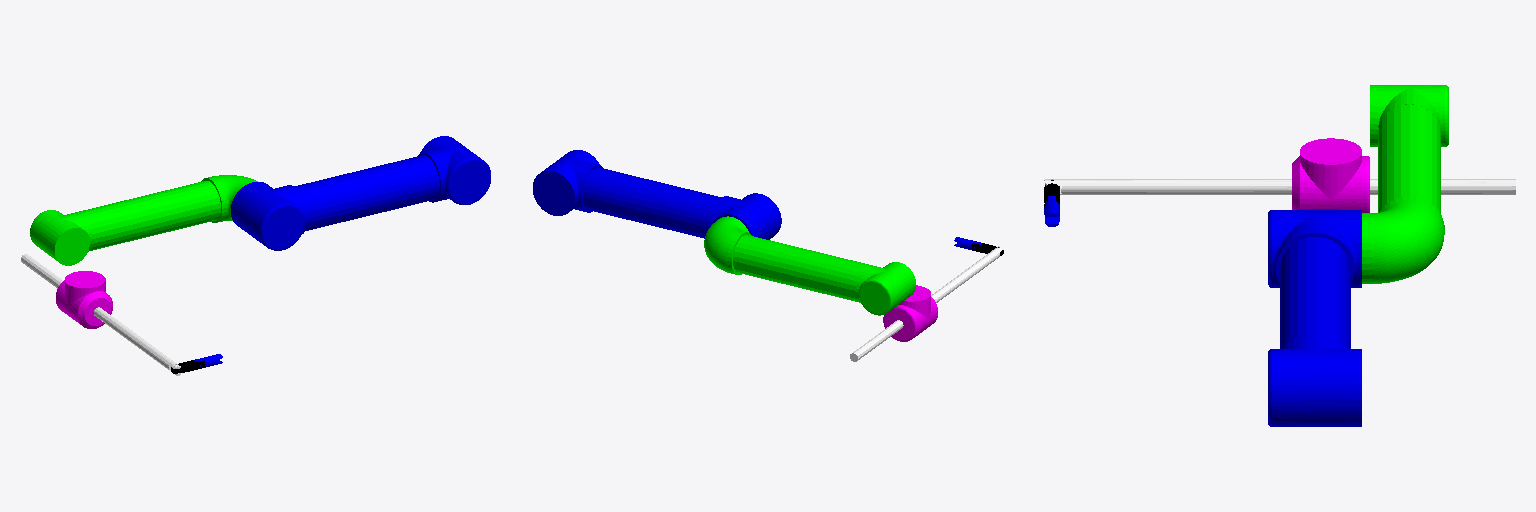
The robot description file, URDF, robot "dofnine6":
<?xml version="1.0" encoding="utf-8"?>
<!-- This URDF was automatically created by SolidWorks to URDF Exporter! Originally created by [author] ([email redacted]) 
     Commit Version: 1.5.1-0-g916b5db  Build Version: 1.5.7152.31018
     For more information, please see http://wiki.ros.org/sw_urdf_exporter -->
<robot
  name="dofnine6">
  <link
    name="base_link">
    <inertial>
      <origin
        xyz="-9.1669E-19 -0.0006188 0.01308"
        rpy="0 0 0" />
      <mass
        value="0.38246" />
      <inertia
        ixx="0.00043672"
        ixy="-5.14E-21"
        ixz="-6.9161E-21"
        iyy="0.00045103"
        iyz="-7.29E-07"
        izz="0.00083789" />
    </inertial>
    <visual>
      <origin
        xyz="0 0 0"
        rpy="0 0 0" />
      <geometry>
        <mesh
          filename="package://dofnine6/meshes/base_link.STL" />
      </geometry>
      <material
        name="">
        <color
          rgba="0 0 0 1" />
      </material>
    </visual>
    <collision>
      <origin
        xyz="0 0 0"
        rpy="0 0 0" />
      <geometry>
        <mesh
          filename="package://dofnine6/meshes/base_link.STL" />
      </geometry>
    </collision>
  </link>
  <link
    name="Link1">
    <inertial>
      <origin
        xyz="4.2686E-10 -0.0063042 0.08991"
        rpy="0 0 0" />
      <mass
        value="1.0794" />
      <inertia
        ixx="0.0020879"
        ixy="-3.8162E-10"
        ixz="-1.4826E-10"
        iyy="0.0019142"
        iyz="6.1066E-07"
        izz="0.0016041" />
    </inertial>
    <visual>
      <origin
        xyz="0 0 0"
        rpy="0 0 0" />
      <geometry>
        <mesh
          filename="package://dofnine6/meshes/Link1.STL" />
      </geometry>
      <material
        name="">
        <color
          rgba="0 0 0 1" />
      </material>
    </visual>
    <collision>
      <origin
        xyz="0 0 0"
        rpy="0 0 0" />
      <geometry>
        <mesh
          filename="package://dofnine6/meshes/Link1.STL" />
      </geometry>
    </collision>
  </link>
  <joint
    name="joint1"
    type="revolute">
    <origin
      xyz="0 0 0"
      rpy="0 0 0" />
    <parent
      link="base_link" />
    <child
      link="Link1" />
    <axis
      xyz="0 0 1" />
    <limit
      lower="-3.14"
      upper="3.14"
      effort="100"
      velocity="3" />
  </joint>
  <link
    name="Link2">
    <inertial>
      <origin
        xyz="-0.21001 -6.7298E-12 0.11992"
        rpy="0 0 0" />
      <mass
        value="2.5593" />
      <inertia
        ixx="0.0045543"
        ixy="9.5236E-10"
        ixz="5.851E-07"
        iyy="0.097115"
        iyz="7.8875E-13"
        izz="0.096147" />
    </inertial>
    <visual>
      <origin
        xyz="0 0 0"
        rpy="0 0 0" />
      <geometry>
        <mesh
          filename="package://dofnine6/meshes/Link2.STL" />
      </geometry>
      <material
        name="">
        <color
          rgba="0 0 1 1" />
      </material>
    </visual>
    <collision>
      <origin
        xyz="0 0 0"
        rpy="0 0 0" />
      <geometry>
        <mesh
          filename="package://dofnine6/meshes/Link2.STL" />
      </geometry>
    </collision>
  </link>
  <joint
    name="joint2"
    type="revolute">
    <origin
      xyz="0 0 0.09"
      rpy="1.5708 0 0" />
    <parent
      link="Link1" />
    <child
      link="Link2" />
    <axis
      xyz="0 0 1" />
    <limit
      lower="-3.14"
      upper="3.14"
      effort="100"
      velocity="3" />
  </joint>
  <link
    name="Link3">
    <inertial>
      <origin
        xyz="-0.2583 8.9889E-08 0.002554"
        rpy="0 0 0" />
      <mass
        value="1.1711" />
      <inertia
        ixx="0.0016101"
        ixy="-1.4711E-08"
        ixz="-0.00077549"
        iyy="0.030627"
        iyz="2.7892E-08"
        izz="0.030394" />
    </inertial>
    <visual>
      <origin
        xyz="0 0 0"
        rpy="0 0 0" />
      <geometry>
        <mesh
          filename="package://dofnine6/meshes/Link3.STL" />
      </geometry>
      <material
        name="">
        <color
          rgba="0 1 0 1" />
      </material>
    </visual>
    <collision>
      <origin
        xyz="0 0 0"
        rpy="0 0 0" />
      <geometry>
        <mesh
          filename="package://dofnine6/meshes/Link3.STL" />
      </geometry>
    </collision>
  </link>
  <joint
    name="joint3"
    type="revolute">
    <origin
      xyz="-0.42 0 0"
      rpy="0 0 0" />
    <parent
      link="Link2" />
    <child
      link="Link3" />
    <axis
      xyz="0 0 1" />
    <limit
      lower="-3.14"
      upper="3.14"
      effort="100"
      velocity="3" />
  </joint>
  <link
    name="Link4">
    <inertial>
      <origin
        xyz="1.2298E-09 -0.00011006 0.094386"
        rpy="0 0 0" />
      <mass
        value="0.58201" />
      <inertia
        ixx="0.0007618"
        ixy="-4.4791E-11"
        ixz="1.4963E-11"
        iyy="0.00056434"
        iyz="3.5959E-07"
        izz="0.00068944" />
    </inertial>
    <visual>
      <origin
        xyz="0 0 0"
        rpy="0 0 0" />
      <geometry>
        <mesh
          filename="package://dofnine6/meshes/Link4.STL" />
      </geometry>
      <material
        name="">
        <color
          rgba="0 1 1 1" />
      </material>
    </visual>
    <collision>
      <origin
        xyz="0 0 0"
        rpy="0 0 0" />
      <geometry>
        <mesh
          filename="package://dofnine6/meshes/Link4.STL" />
      </geometry>
    </collision>
  </link>
  <joint
    name="joint4"
    type="revolute">
    <origin
      xyz="-0.4 0 0"
      rpy="0 0 0" />
    <parent
      link="Link3" />
    <child
      link="Link4" />
    <axis
      xyz="0 0 -1" />
    <limit
      lower="-3.14"
      upper="3.14"
      effort="100"
      velocity="3" />
  </joint>
  <link
    name="Link5">
    <inertial>
      <origin
        xyz="-1.1025E-09 -0.00087677 0.093939"
        rpy="0 0 0" />
      <mass
        value="0.53907" />
      <inertia
        ixx="0.00070005"
        ixy="-3.7536E-11"
        ixz="-2.8082E-11"
        iyy="0.00054563"
        iyz="2.8643E-06"
        izz="0.00062916" />
    </inertial>
    <visual>
      <origin
        xyz="0 0 0"
        rpy="0 0 0" />
      <geometry>
        <mesh
          filename="package://dofnine6/meshes/Link5.STL" />
      </geometry>
      <material
        name="">
        <color
          rgba="1 0 1 1" />
      </material>
    </visual>
    <collision>
      <origin
        xyz="0 0 0"
        rpy="0 0 0" />
      <geometry>
        <mesh
          filename="package://dofnine6/meshes/Link5.STL" />
      </geometry>
    </collision>
  </link>
  <joint
    name="joint5"
    type="revolute">
    <origin
      xyz="0 0 0.1"
      rpy="1.5708 0 0" />
    <parent
      link="Link4" />
    <child
      link="Link5" />
    <axis
      xyz="0 0 1" />
    <limit
      lower="-3.14"
      upper="3.14"
      effort="100"
      velocity="3" />
  </joint>
  <link
    name="Link6">
    <inertial>
      <origin
        xyz="-2.58E-09 -2.58E-09 0.071586"
        rpy="0 0 0" />
      <mass
        value="0.025232" />
      <inertia
        ixx="6.4705E-06"
        ixy="1.338E-19"
        ixz="-5.7487E-13"
        iyy="6.4705E-06"
        iyz="-5.7487E-13"
        izz="5.076E-06" />
    </inertial>
    <visual>
      <origin
        xyz="0 0 0"
        rpy="0 0 0" />
      <geometry>
        <mesh
          filename="package://dofnine6/meshes/Link6.STL" />
      </geometry>
      <material
        name="">
        <color
          rgba="1 1 0 1" />
      </material>
    </visual>
    <collision>
      <origin
        xyz="0 0 0"
        rpy="0 0 0" />
      <geometry>
        <mesh
          filename="package://dofnine6/meshes/Link6.STL" />
      </geometry>
    </collision>
  </link>
  <joint
    name="joint6"
    type="revolute">
    <origin
      xyz="0 0 0.1"
      rpy="-1.5708 0 0" />
    <parent
      link="Link5" />
    <child
      link="Link6" />
    <axis
      xyz="0 0 1" />
    <limit
      lower="-3.14"
      upper="3.14"
      effort="100"
      velocity="3" />
  </joint>
  <link
    name="Link7">
    <inertial>
      <origin
        xyz="3.1885E-09 -2.9817E-08 -0.29766"
        rpy="0 0 0" />
      <mass
        value="0.18362" />
      <inertia
        ixx="0.0052429"
        ixy="-2.891E-13"
        ixz="-1.4282E-10"
        iyy="0.0052429"
        iyz="1.3378E-09"
        izz="9.233E-06" />
    </inertial>
    <visual>
      <origin
        xyz="0 0 0"
        rpy="0 0 0" />
      <geometry>
        <mesh
          filename="package://dofnine6/meshes/Link7.STL" />
      </geometry>
      <material
        name="">
        <color
          rgba="1 1 1 1" />
      </material>
    </visual>
    <collision>
      <origin
        xyz="0 0 0"
        rpy="0 0 0" />
      <geometry>
        <mesh
          filename="package://dofnine6/meshes/Link7.STL" />
      </geometry>
    </collision>
  </link>
  <joint
    name="joint7"
    type="prismatic">
    <origin
      xyz="0 0 0.1"
      rpy="0 0 0" />
    <parent
      link="Link6" />
    <child
      link="Link7" />
    <axis
      xyz="0 0 1" />
    <limit
      lower="0.01"
      upper="0.5"
      effort="100"
      velocity="3" />
  </joint>
  <link
    name="Link8">
    <inertial>
      <origin
        xyz="0.02193 5.5058E-08 5.6072E-09"
        rpy="0 0 0" />
      <mass
        value="0.01445" />
      <inertia
        ixx="7.2584E-07"
        ixy="-2.2296E-11"
        ixz="-2.3185E-12"
        iyy="4.3215E-06"
        iyz="-3.8711E-14"
        izz="4.4679E-06" />
    </inertial>
    <visual>
      <origin
        xyz="0 0 0"
        rpy="0 0 0" />
      <geometry>
        <mesh
          filename="package://dofnine6/meshes/Link8.STL" />
      </geometry>
      <material
        name="">
        <color
          rgba="0 0 0 1" />
      </material>
    </visual>
    <collision>
      <origin
        xyz="0 0 0"
        rpy="0 0 0" />
      <geometry>
        <mesh
          filename="package://dofnine6/meshes/Link8.STL" />
      </geometry>
    </collision>
  </link>
  <joint
    name="joint8"
    type="revolute">
    <origin
      xyz="0 0 0"
      rpy="1.5708 0 0" />
    <parent
      link="Link7" />
    <child
      link="Link8" />
    <axis
      xyz="0 0 -1" />
    <limit
      lower="-3.14"
      upper="3.14"
      effort="100"
      velocity="3" />
  </joint>
  <link
    name="Link9">
    <inertial>
      <origin
        xyz="0.020749 -2.7756E-17 2.7756E-17"
        rpy="0 0 0" />
      <mass
        value="0.014228" />
      <inertia
        ixx="6.8999E-07"
        ixy="7.9967E-22"
        ixz="-4.3277E-20"
        iyy="3.5414E-06"
        iyz="1.221E-21"
        izz="3.6563E-06" />
    </inertial>
    <visual>
      <origin
        xyz="0 0 0"
        rpy="0 0 0" />
      <geometry>
        <mesh
          filename="package://dofnine6/meshes/Link9.STL" />
      </geometry>
      <material
        name="">
        <color
          rgba="0 0 1 1" />
      </material>
    </visual>
    <collision>
      <origin
        xyz="0 0 0"
        rpy="0 0 0" />
      <geometry>
        <mesh
          filename="package://dofnine6/meshes/Link9.STL" />
      </geometry>
    </collision>
  </link>
  <joint
    name="joint9"
    type="revolute">
    <origin
      xyz="0.05 0 0"
      rpy="-1.5708 0 0" />
    <parent
      link="Link8" />
    <child
      link="Link9" />
    <axis
      xyz="0 0 1" />
    <limit
      lower="-3.14"
      upper="3.14"
      effort="100"
      velocity="3" />
  </joint>
  <link
    name="gripper">
    <inertial>
      <origin
        xyz="-0.029251 -2.6021E-17 -2.498E-16"
        rpy="0 0 0" />
      <mass
        value="0.014228" />
      <inertia
        ixx="6.8999E-07"
        ixy="7.9967E-22"
        ixz="-4.3277E-20"
        iyy="3.5414E-06"
        iyz="1.216E-21"
        izz="3.6563E-06" />
    </inertial>
    <visual>
      <origin
        xyz="0 0 0"
        rpy="0 0 0" />
      <geometry>
        <mesh
          filename="package://dofnine6/meshes/gripper.STL" />
      </geometry>
      <material
        name="">
        <color
          rgba="1 1 1 1" />
      </material>
    </visual>
    <collision>
      <origin
        xyz="0 0 0"
        rpy="0 0 0" />
      <geometry>
        <mesh
          filename="package://dofnine6/meshes/gripper.STL" />
      </geometry>
    </collision>
  </link>
  <joint
    name="gripper"
    type="fixed">
    <origin
      xyz="0.05 0 0"
      rpy="0 0 0" />
    <parent
      link="Link9" />
    <child
      link="gripper" />
    <axis
      xyz="0 0 0" />
  </joint>
</robot>

--- What the picture shows (computed from the rendered views, not written in the file) ---
Views: 3 orthographic renders of the robot side by side, from view 1: azimuth 30°, elevation 25°; view 2: azimuth 150°, elevation 25°; view 3: azimuth 270°, elevation 25°.
Robot: dofnine6 — 11 links, 10 joints (8 revolute, 1 prismatic, 1 fixed); root link base_link; default pose: all joints at 0 but 1 set to mid-range because 0 is outside their limits (joint7 = 0.255).
Visible links, largest first — view 1: Link2, Link3, Link5, Link7; view 2: Link2, Link3, Link5, Link7; view 3: Link2, Link3, Link5, Link7.
Link boxes in pixels (x1=…): Link2: x1=231, y1=136, x2=490, y2=250; Link3: x1=30, y1=175, x2=257, y2=265; Link5: x1=56, y1=271, x2=112, y2=328; Link7: x1=21, y1=254, x2=180, y2=375; Link2: x1=533, y1=150, x2=781, y2=239; Link3: x1=704, y1=216, x2=915, y2=315; Link5: x1=883, y1=285, x2=937, y2=341; Link7: x1=850, y1=246, x2=1002, y2=361; Link2: x1=1268, y1=210, x2=1361, y2=426; Link3: x1=1362, y1=85, x2=1448, y2=283; Link5: x1=1292, y1=138, x2=1369, y2=212; Link7: x1=1044, y1=179, x2=1515, y2=194.
Bounding box of the posed robot: 0.91 × 0.6 × 0.19 m (x, y, z).
Meshes: 11 distinct files referenced, 6 mesh visuals loaded (6 binary STL); not drawn: 5 (reference not matched to a file when rendering).
